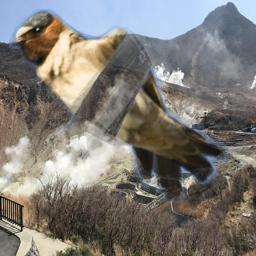Swallow: (9, 9, 230, 203)
